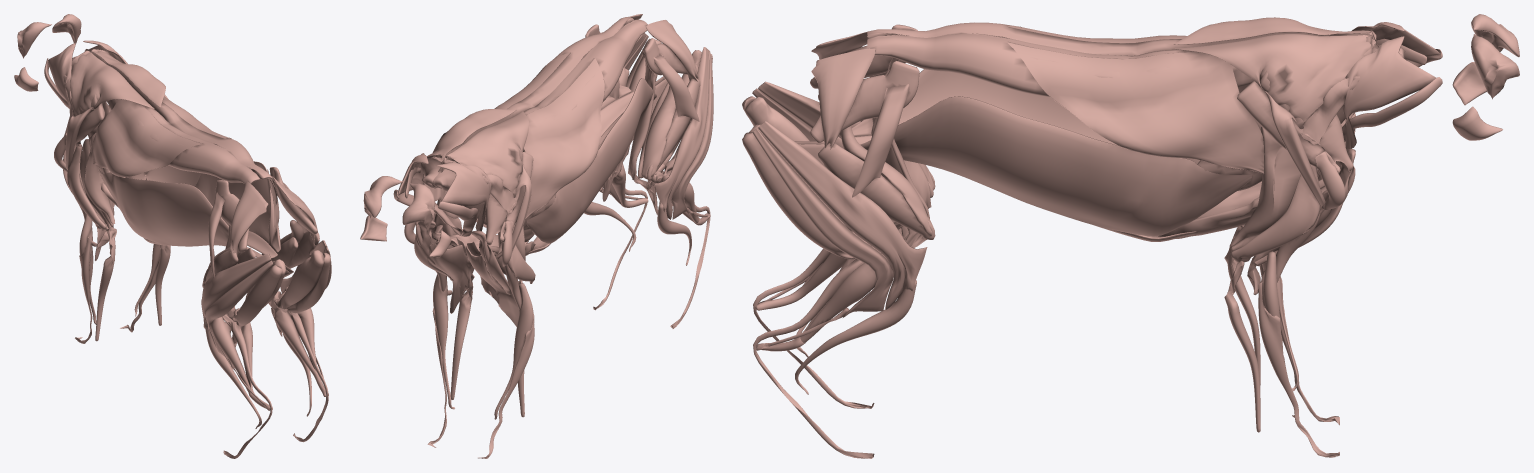
File: muscular.glb
3 renders of one model, left to right at view 1: azimuth 30°, elevation 25°; view 2: azimuth 150°, elevation 25°; view 3: azimuth 270°, elevation 25°, orthographic. The views are drawn at different scales.
Visible parts, largest first — view 1: cat_muscular_obliquus-externus-abdominis_L, cat_muscular_latissimus-dorsi_L, cat_muscular_epaxial_L, cat_muscular_trapezius_L, cat_muscular_epaxial_R, cat_muscular_obliquus-externus-abdominis_R, cat_muscular_biceps-femoris_cranial_L, cat_muscular_biceps-femoris_caudal_L, cat_muscular_gluteus-superficialis_L, cat_muscular_semimembranosus_R, cat_muscular_triceps-brachii_long_L, cat_muscular_semitendinosus_L (+32 smaller); view 2: cat_muscular_latissimus-dorsi_L, cat_muscular_obliquus-externus-abdominis_L, cat_muscular_trapezius_L, cat_muscular_epaxial_L, cat_muscular_epaxial_R, cat_muscular_biceps-femoris_cranial_L, cat_muscular_brachiocephalicus_cleidocephalicus_L, cat_muscular_trapezius_R, cat_muscular_quadriceps-femoris_rectus-femoris_L, cat_muscular_biceps-femoris_caudal_L, cat_muscular_pectorales_superficiales_R, cat_muscular_pectorales_superficiales_L (+35 smaller); view 3: cat_muscular_obliquus-externus-abdominis_R, cat_muscular_latissimus-dorsi_R, cat_muscular_trapezius_R, cat_muscular_epaxial_R, cat_muscular_biceps-femoris_cranial_R, cat_muscular_obliquus-externus-abdominis_L, cat_muscular_biceps-femoris_caudal_R, cat_muscular_brachiocephalicus_cleidocephalicus_R, cat_muscular_epaxial_L, cat_muscular_gluteus-superficialis_R, cat_muscular_triceps-brachii_long_R, cat_muscular_quadriceps-femoris_vastus-lateralis_R (+33 smaller).
Part boxes in pixels (x1,y1,x2,y2): cat_muscular_obliquus-externus-abdominis_L: (98,170,257,257); cat_muscular_latissimus-dorsi_L: (93,99,202,176); cat_muscular_epaxial_L: (71,50,260,183); cat_muscular_trapezius_L: (70,52,154,116); cat_muscular_epaxial_R: (90,49,274,180); cat_muscular_obliquus-externus-abdominis_R: (196,161,280,252); cat_muscular_biceps-femoris_cranial_L: (201,253,271,347); cat_muscular_biceps-femoris_caudal_L: (205,260,273,410); cat_muscular_gluteus-superficialis_L: (230,181,268,264); cat_muscular_semimembranosus_R: (274,250,324,309); cat_muscular_triceps-brachii_long_L: (80,132,114,223); cat_muscular_semitendinosus_L: (232,265,282,347); cat_muscular_latissimus-dorsi_L: (496,58,604,258); cat_muscular_obliquus-externus-abdominis_L: (526,78,656,243); cat_muscular_trapezius_L: (444,111,529,192); cat_muscular_epaxial_L: (433,19,647,190); cat_muscular_epaxial_R: (420,17,633,188); cat_muscular_biceps-femoris_cranial_L: (654,47,709,219); cat_muscular_brachiocephalicus_cleidocephalicus_L: (437,162,491,230); cat_muscular_trapezius_R: (427,109,516,161); cat_muscular_quadriceps-femoris_rectus-femoris_L: (641,86,675,179); cat_muscular_biceps-femoris_caudal_L: (671,49,713,219); cat_muscular_pectorales_superficiales_R: (429,244,474,313); cat_muscular_pectorales_superficiales_L: (465,246,519,326); cat_muscular_obliquus-externus-abdominis_R: (860,96,1251,236); cat_muscular_latissimus-dorsi_R: (1007,41,1264,174); cat_muscular_trapezius_R: (1174,34,1376,120); cat_muscular_epaxial_R: (867,33,1404,97); cat_muscular_biceps-femoris_cranial_R: (758,121,927,309); cat_muscular_obliquus-externus-abdominis_L: (851,69,1119,145); cat_muscular_biceps-femoris_caudal_R: (752,128,893,350); cat_muscular_brachiocephalicus_cleidocephalicus_R: (1343,36,1436,150); cat_muscular_epaxial_L: (867,22,1405,58); cat_muscular_gluteus-superficialis_R: (811,48,875,166); cat_muscular_triceps-brachii_long_R: (1229,127,1300,246); cat_muscular_quadriceps-femoris_vastus-lateralis_R: (818,143,935,239).
Bounding box in the file's own units: 0.1086 × 0.2657 × 0.4536.
